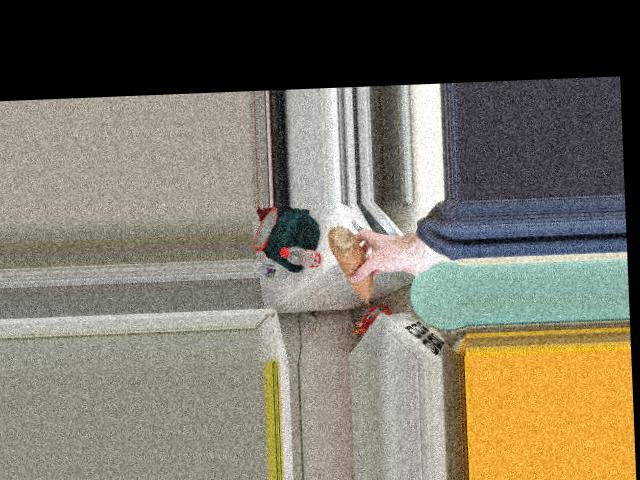sweet_potato: (324, 229, 380, 299)
